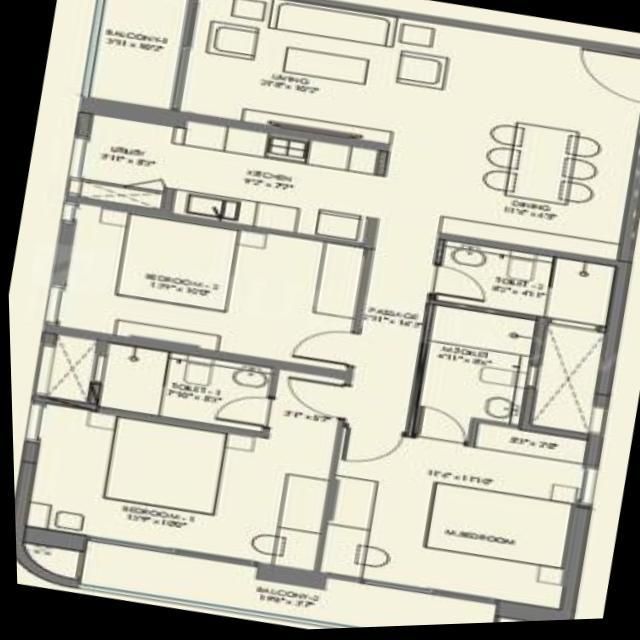Balcony-Sitout: (74, 538, 494, 630), (86, 0, 187, 109)
Bedroom: (56, 203, 366, 373)
Bedroom with Toilet: (314, 304, 586, 614), (18, 338, 345, 572)
Dining: (462, 113, 609, 230)
Enterance-Foyer: (542, 39, 640, 111)
Kitchen: (170, 121, 377, 245)
Living: (180, 0, 469, 156)
Toilet: (408, 308, 533, 447), (97, 343, 269, 433), (432, 243, 610, 329)
Utility: (81, 114, 176, 192)
